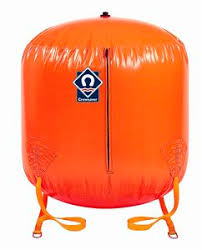buoy: (21, 18, 189, 206)
